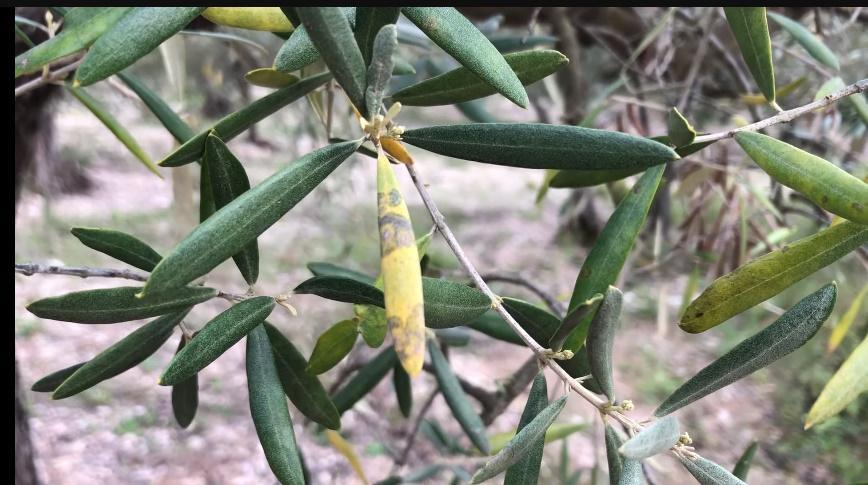OlivePeacockSpot: (678, 224, 863, 334), (563, 165, 667, 355), (370, 148, 436, 380), (736, 131, 868, 224)
